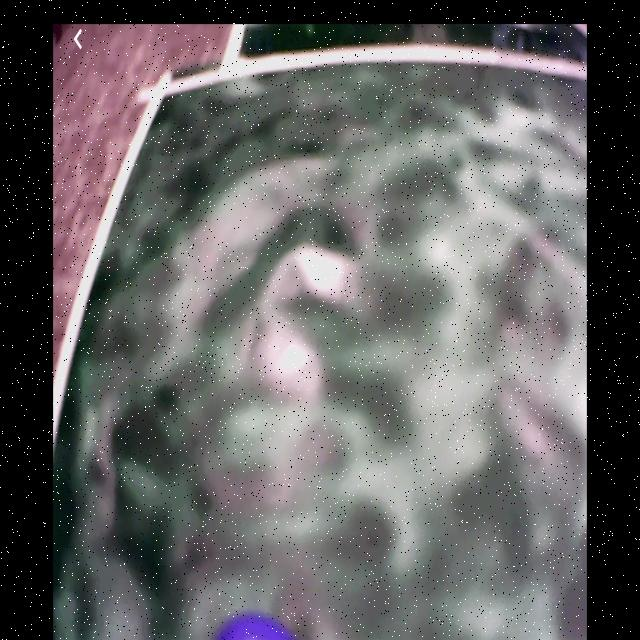ball: (218, 610, 294, 640)
